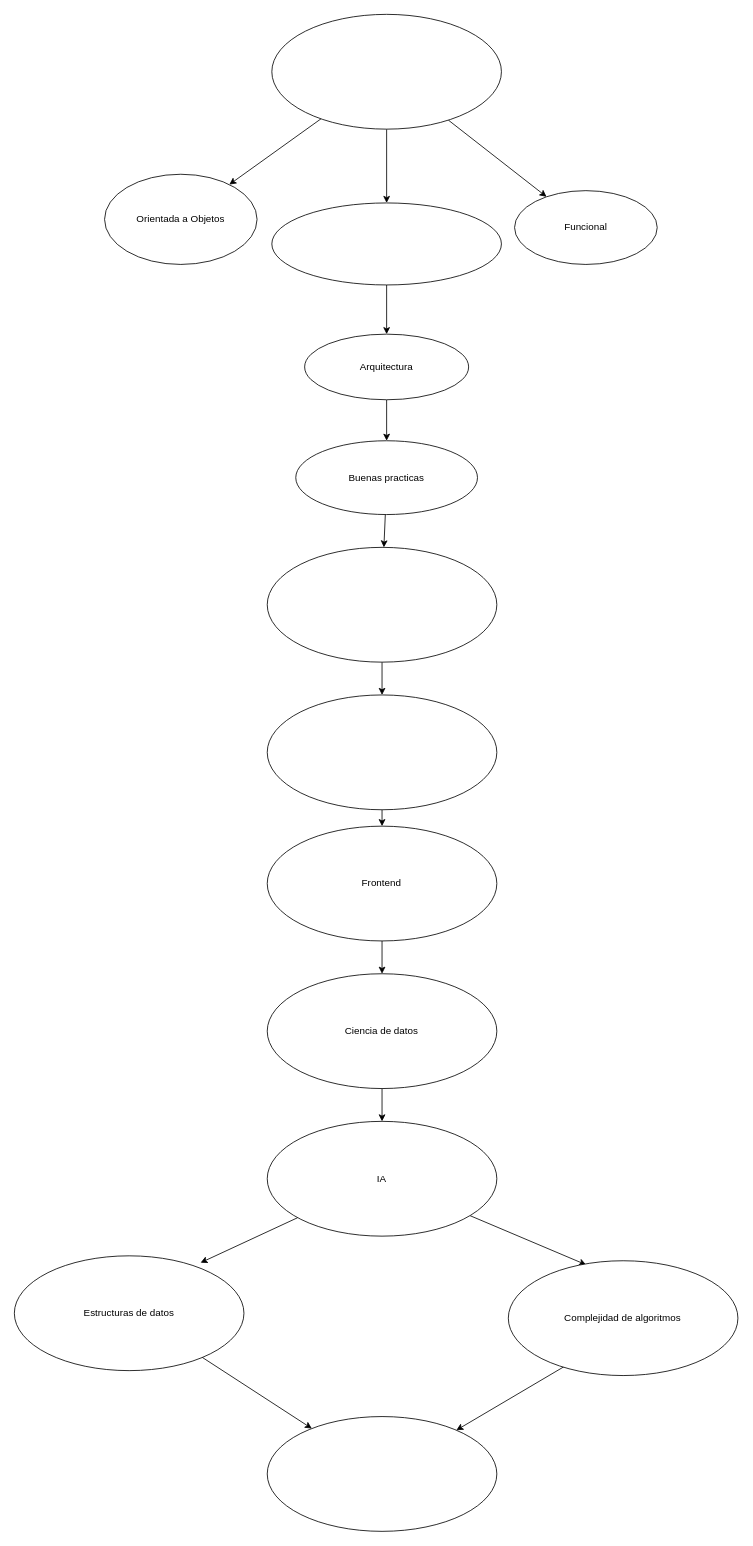
The diagram is 753 pixels wide and 1546 high, and some of its shapes have lost their labels. The shapes that lost their labels are listed below. From the top down, each one's centre as x and y in pixels, then its label:
pixel 386 71: Bases de la programacion (paradigmas y concepto de algoritmo)
pixel 386 243: Microservicios
pixel 381 604: Bases de datos
pixel 381 752: Backend
pixel 381 1473: Simulacion problema del mejor camino
